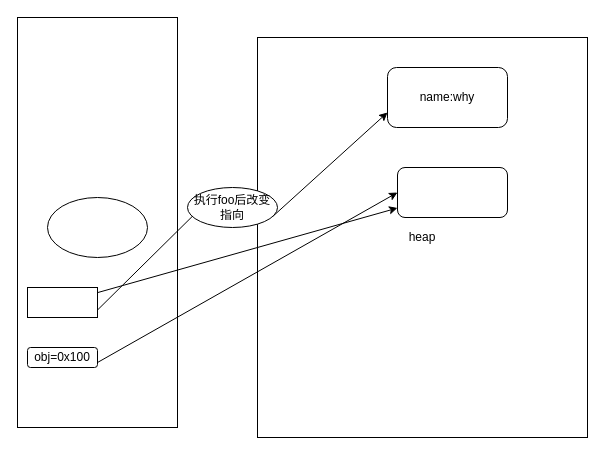
The diagram is 605 pixels wide and 455 high, and some of its shapes have lost their labels. Here are the shapes that lost their labels. From the top down, the centre of each, then its label:
At (452,192): "name:obj".
At (97,227): "地址改变a=0x200".
At (62,302): "a=0x100".
